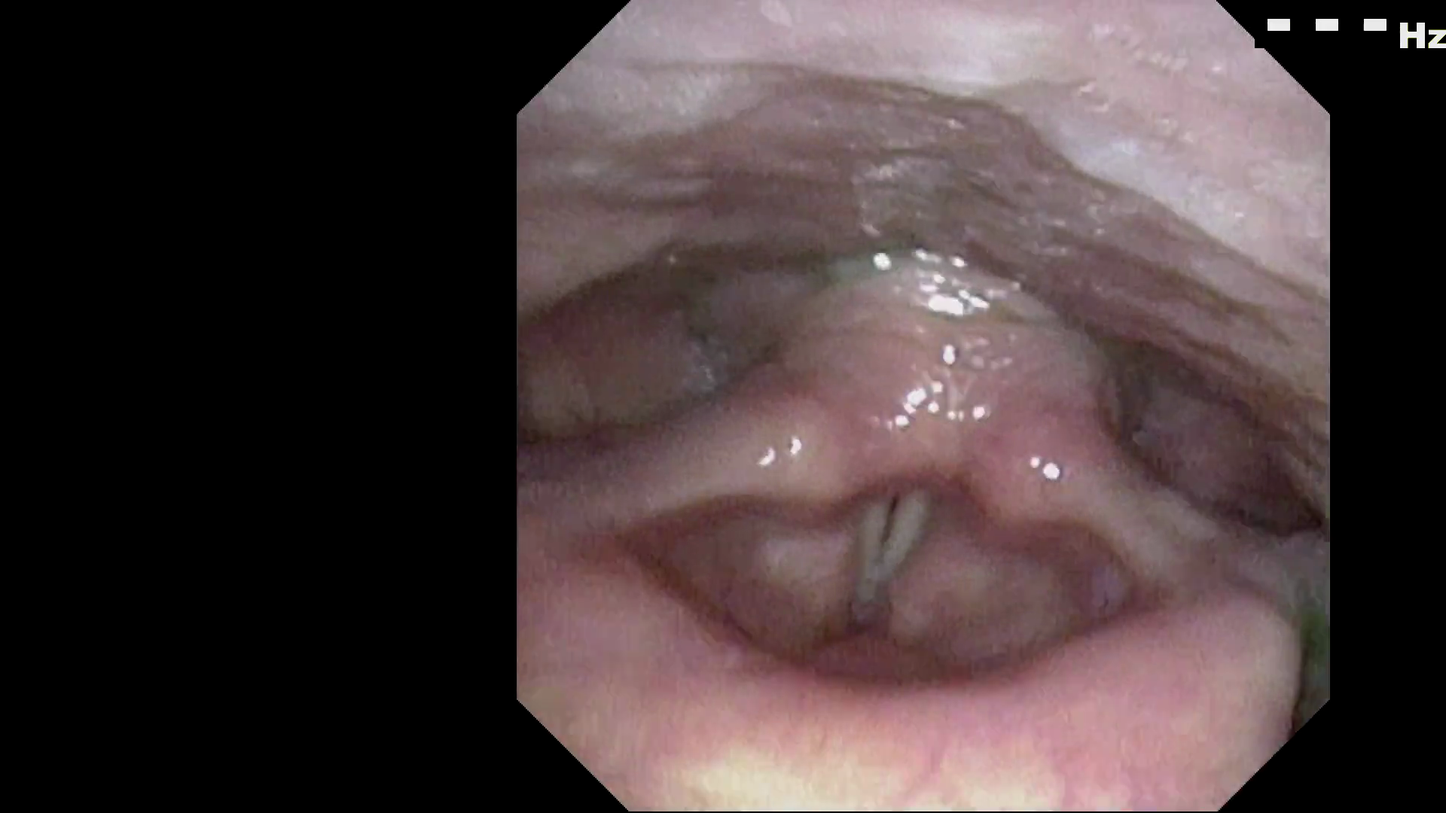epiglottis: (588, 552, 1246, 760)
trachea: (842, 476, 934, 582)
